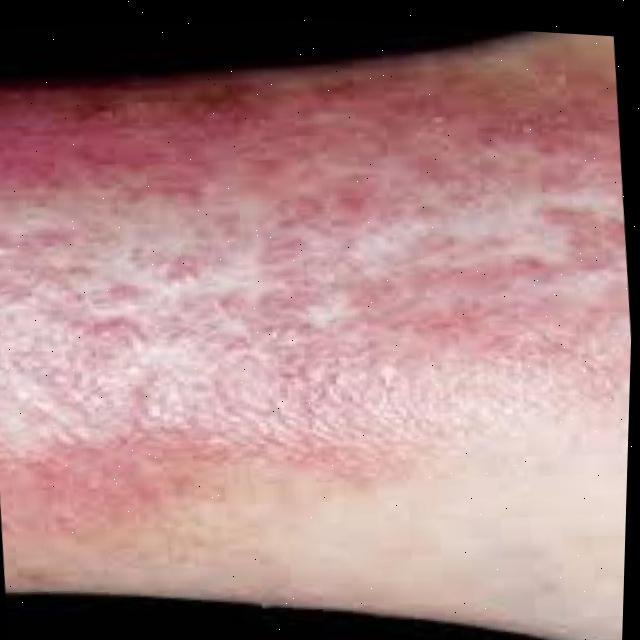Eczema: (0, 8, 640, 576)
